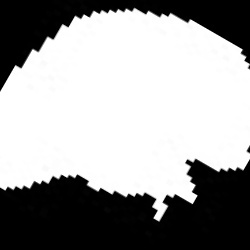spot: (3, 8, 247, 223)
